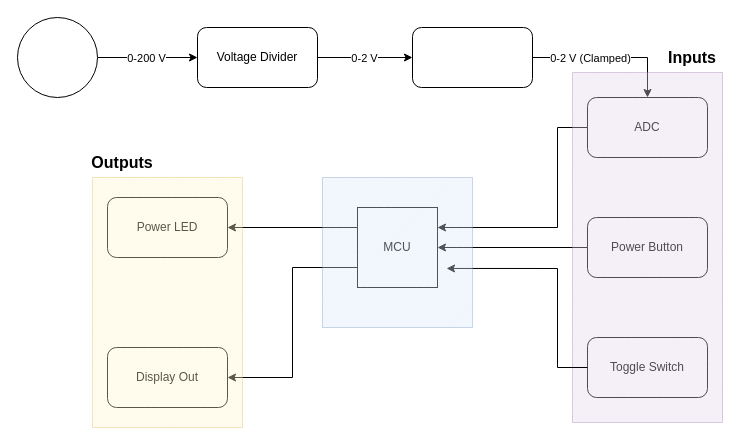
The diagram is 740 pixels wide and 445 high, and some of its shapes have lost their labels. Each missing label, with the centre of its shape:
"Piezo Disk" belongs at pixel 57 57.
"TVS Diode" belongs at pixel 472 57.
